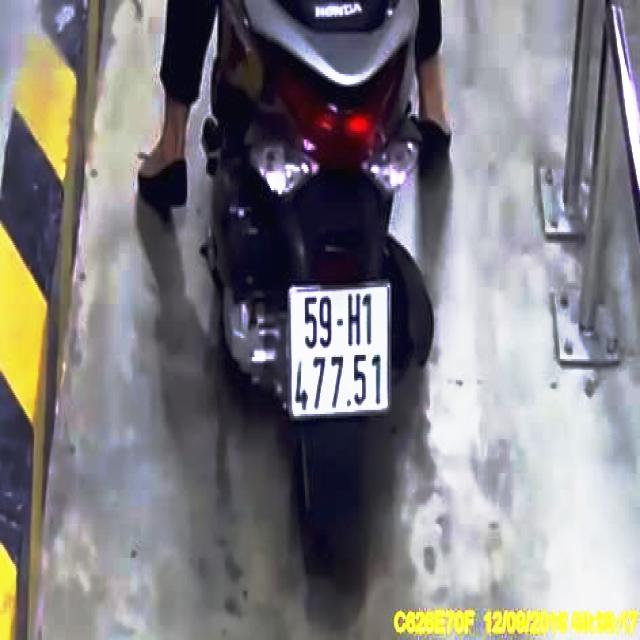license_plate: (291, 284, 394, 419)
